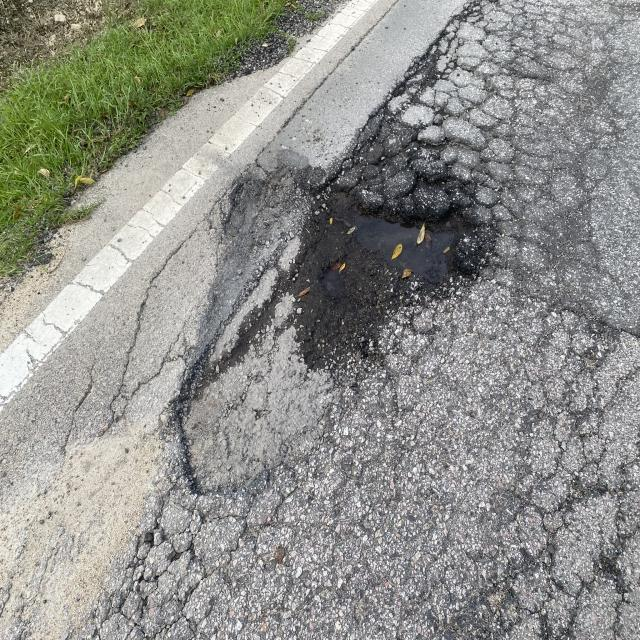Pothole: (191, 124, 523, 516)
